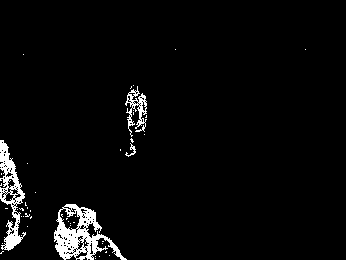person: (51, 201, 92, 260), (123, 83, 150, 157)
